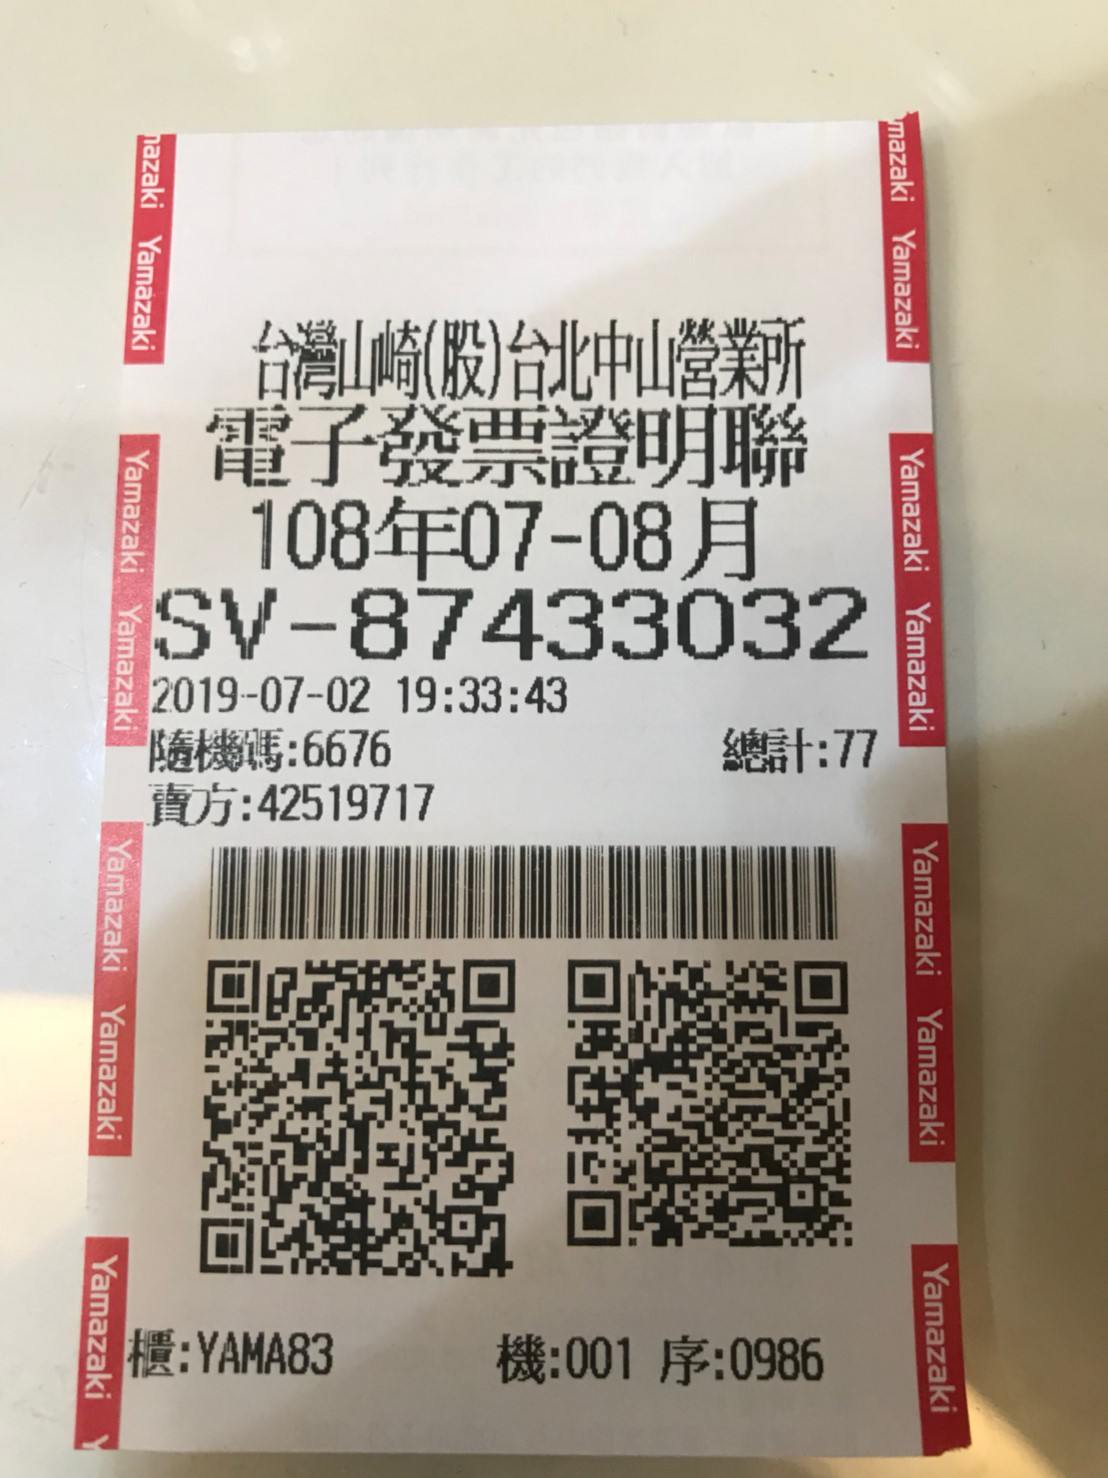Date_New: (249, 493, 760, 580)
Number_New: (342, 580, 876, 667)
